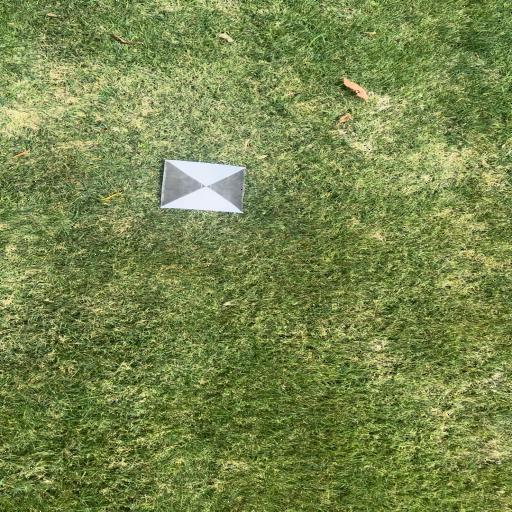target: (160, 159, 247, 213)
